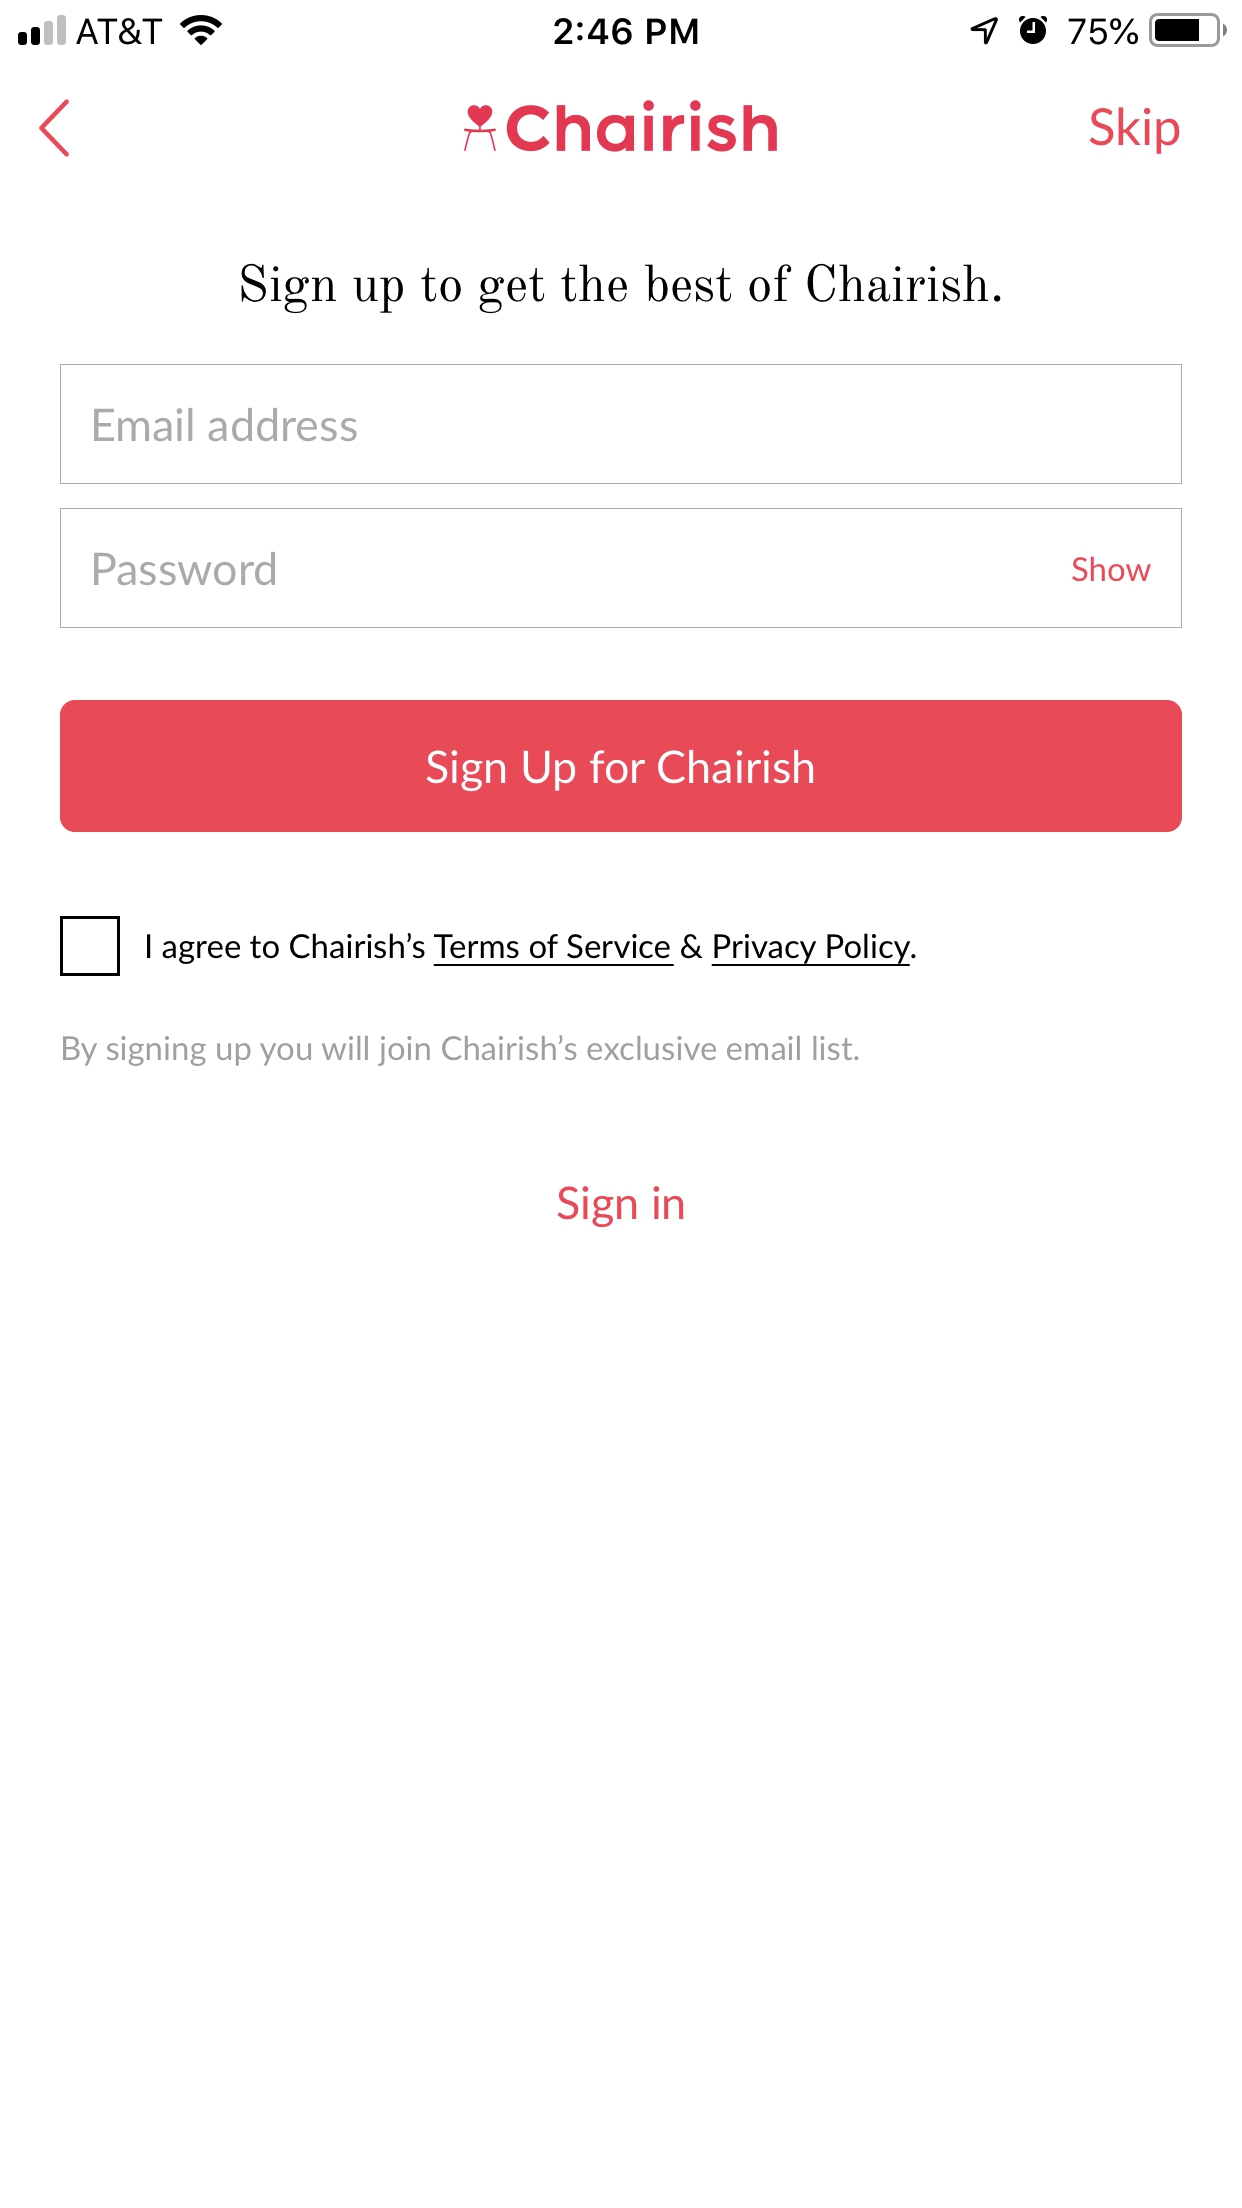CheckedTextView: (61, 916, 917, 977)
EditText: (61, 510, 1181, 629), (61, 365, 1181, 485)
Icon: (39, 99, 71, 159)
Image: (464, 105, 497, 153)
Text: (241, 264, 1002, 315), (149, 933, 917, 968), (64, 1034, 860, 1068), (507, 100, 778, 153), (96, 408, 358, 443), (96, 552, 276, 587), (558, 1184, 685, 1228), (1087, 108, 1180, 156), (1072, 557, 1151, 582)
TextButton: (61, 701, 1183, 833)
UpperTaskBar: (2, 2, 1242, 49)
